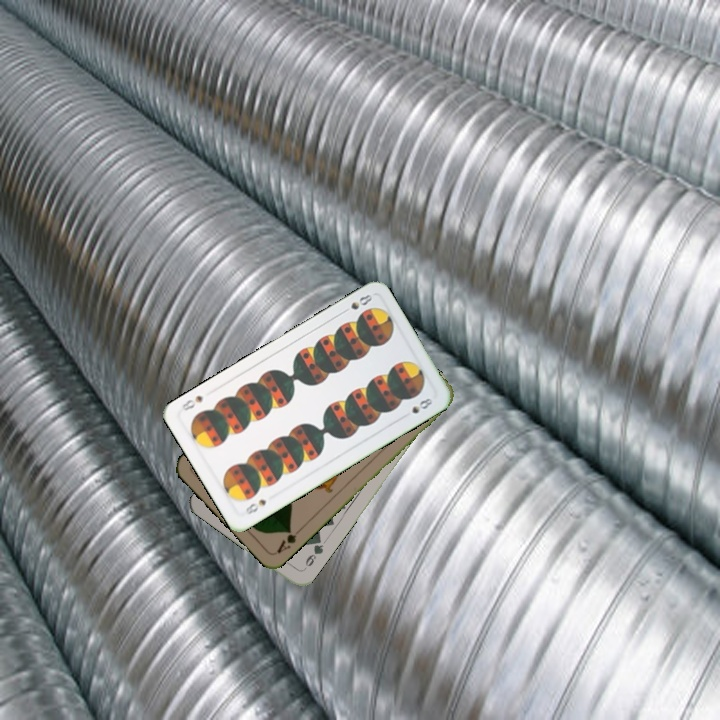G9: (299, 536, 326, 574)
GA: (273, 523, 305, 556)
S8: (337, 290, 375, 317), (241, 495, 269, 517)
